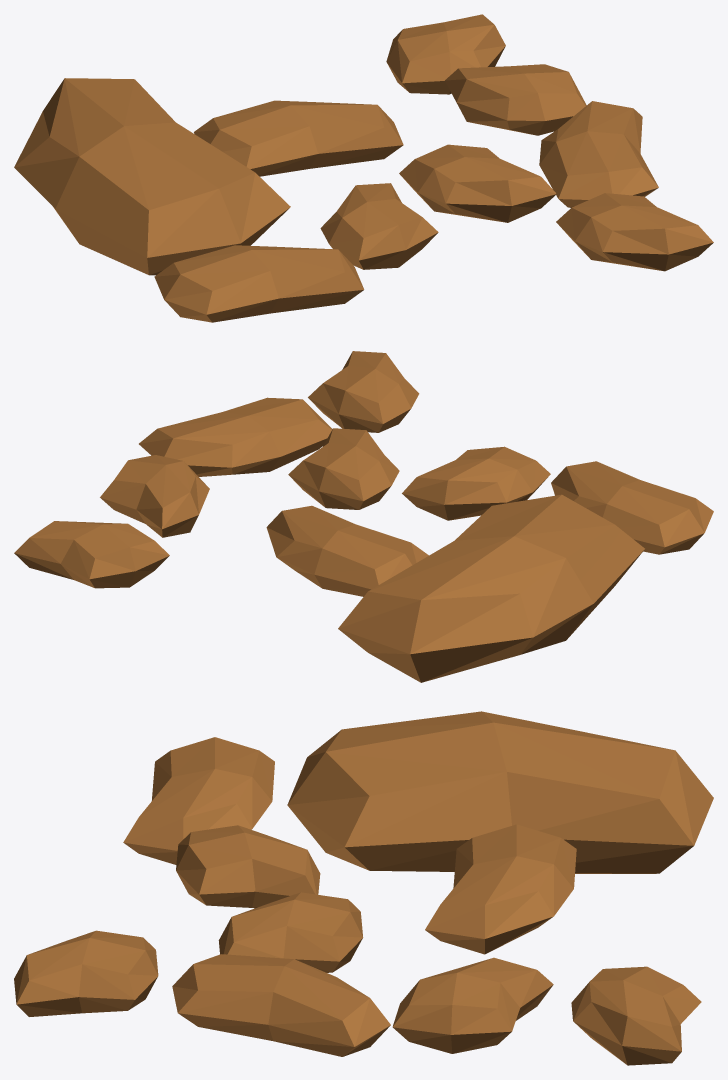
The model's file is 06 Stone_1.FBX.glb.
3 views of the same model, one above another, from view 1: azimuth 30°, elevation 25°; view 2: azimuth 150°, elevation 25°; view 3: azimuth 270°, elevation 25° (orthographic). The views are drawn at different scales.
Visible parts, largest first — view 1: Stone_lit_029.2; view 2: Stone_lit_029.2; view 3: Stone_lit_029.2.
Boxes of the visible parts, x1,y1,x2,y2 form: Stone_lit_029.2: (14, 14, 713, 322); Stone_lit_029.2: (14, 351, 713, 682); Stone_lit_029.2: (14, 711, 713, 1065).
Size of the model in its own units: 3486 by 722 by 3403.
